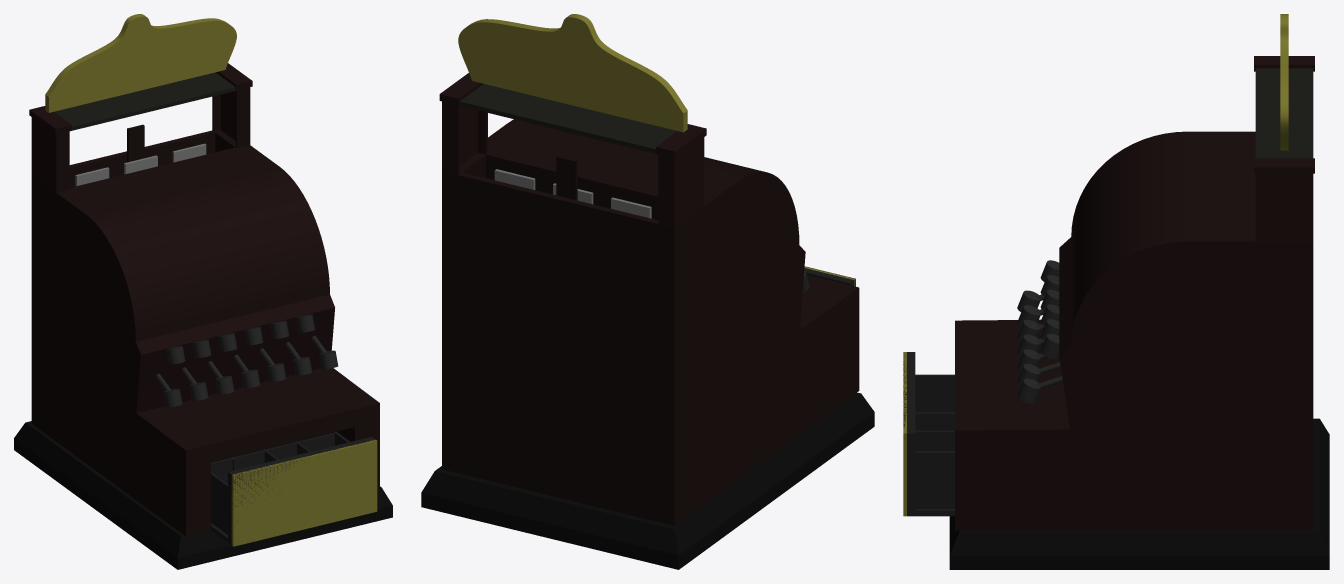
File: cash_register__870f6ebb115a.glb
The picture shows the model from 3 angles, left to right: view 1: azimuth 30°, elevation 25°; view 2: azimuth 150°, elevation 25°; view 3: azimuth 270°, elevation 25°; orthographic projection. The views are drawn at different scales.
Visible parts, largest first — view 1: housing, brass_front, crest, foot, tray, crossbar, post.001, post, central_indicator; view 2: housing, foot, crest, crossbar, post.001, post, central_indicator; view 3: housing, foot, tray, post, crossbar, crest, post.001, brass_front, key.013.
Part boxes in pixels (bbox=[...]): housing: bbox=[31, 130, 379, 536]; brass_front: bbox=[231, 440, 377, 546]; crest: bbox=[45, 14, 236, 112]; foot: bbox=[14, 421, 392, 569]; tray: bbox=[211, 431, 375, 545]; crossbar: bbox=[54, 72, 246, 131]; post.001: bbox=[29, 106, 71, 193]; post: bbox=[212, 63, 252, 148]; central_indicator: bbox=[127, 124, 144, 162]; housing: bbox=[442, 119, 859, 525]; foot: bbox=[421, 392, 874, 569]; crest: bbox=[458, 14, 687, 132]; crossbar: bbox=[446, 84, 676, 157]; post.001: bbox=[656, 124, 706, 228]; post: bbox=[439, 73, 487, 175]; central_indicator: bbox=[556, 155, 577, 200]; housing: bbox=[955, 131, 1313, 530]; foot: bbox=[949, 418, 1329, 569]; tray: bbox=[903, 352, 954, 516]; post: bbox=[1254, 158, 1314, 242]; crossbar: bbox=[1255, 68, 1313, 158]; crest: bbox=[1280, 14, 1288, 150]; post.001: bbox=[1254, 56, 1314, 71]; brass_front: bbox=[903, 352, 906, 516]; key.013: bbox=[1017, 376, 1062, 403].
Bounding box in the file's own units: 0.2405 × 0.4518 × 0.3555.
